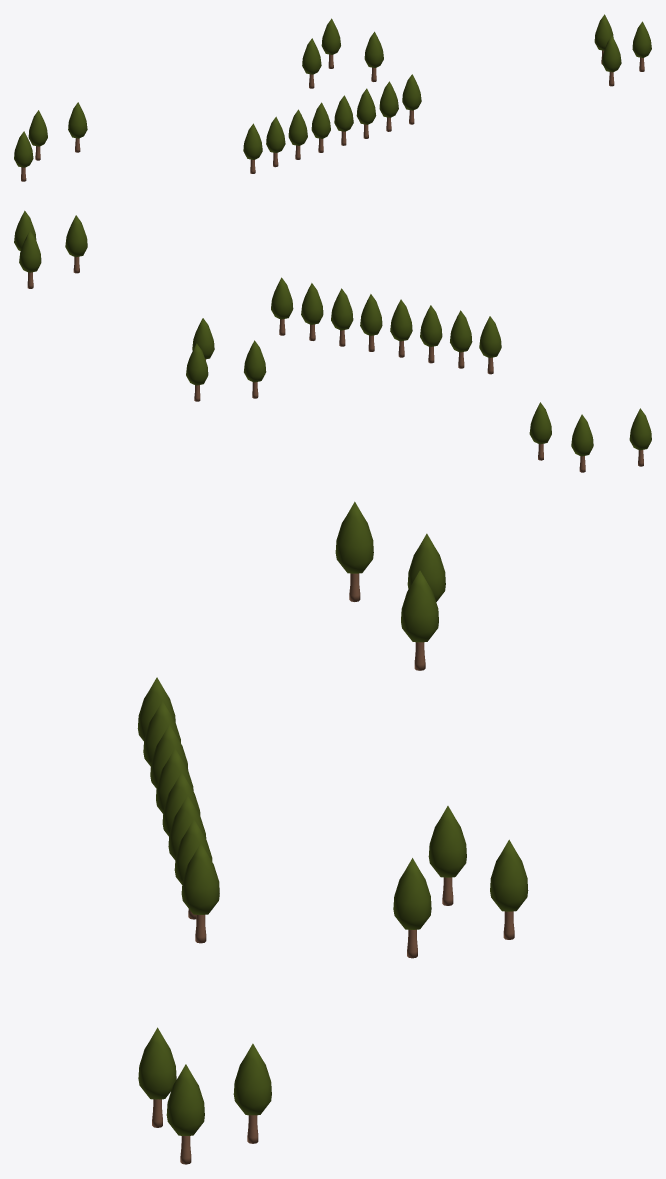
File: AkropolisBaeumeOben.fbx
The picture shows the model from 3 angles, top to bottom: view 1: azimuth 30°, elevation 25°; view 2: azimuth 150°, elevation 25°; view 3: azimuth 270°, elevation 25°; orthographic projection. The views are drawn at different scales.
Visible parts, largest first — view 1: AkropolisBaeumeObenNewUnwrap; view 2: AkropolisBaeumeObenNewUnwrap; view 3: AkropolisBaeumeObenNewUnwrap.
Part boxes in pixels (left/top/right/bottom): AkropolisBaeumeObenNewUnwrap: left=14, top=14, right=651, bottom=181; AkropolisBaeumeObenNewUnwrap: left=14, top=210, right=651, bottom=472; AkropolisBaeumeObenNewUnwrap: left=137, top=501, right=528, bottom=1164.
Size of the model in its own units: 245 by 19.52 by 69.7.
